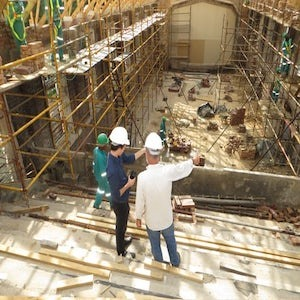safety: (146, 133, 165, 152), (111, 129, 131, 145), (99, 135, 108, 146)
